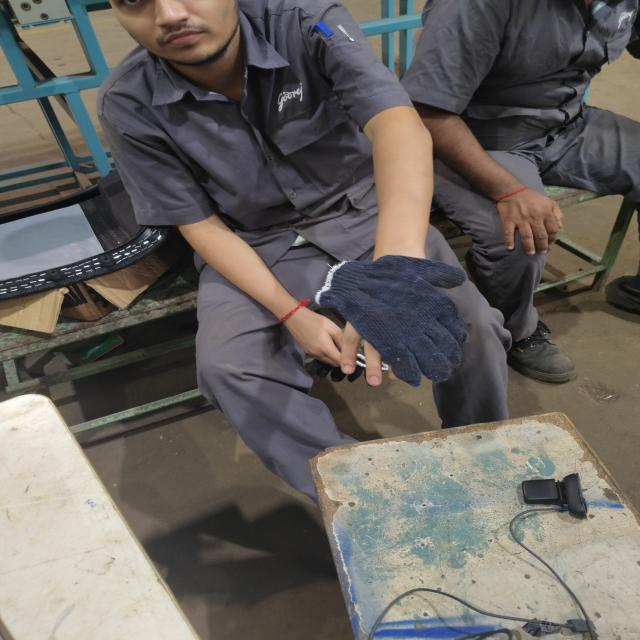Gloves-Detection: (323, 252, 460, 377)
